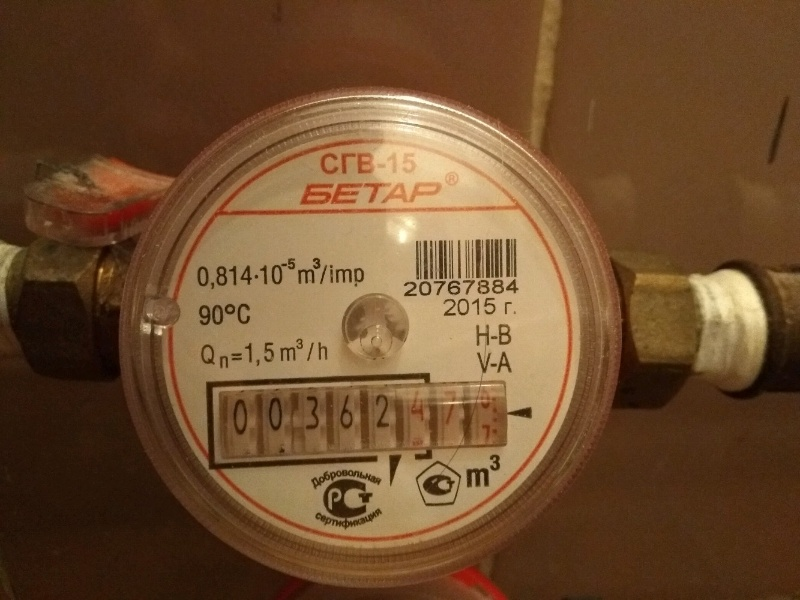meter: (199, 386, 506, 446)
